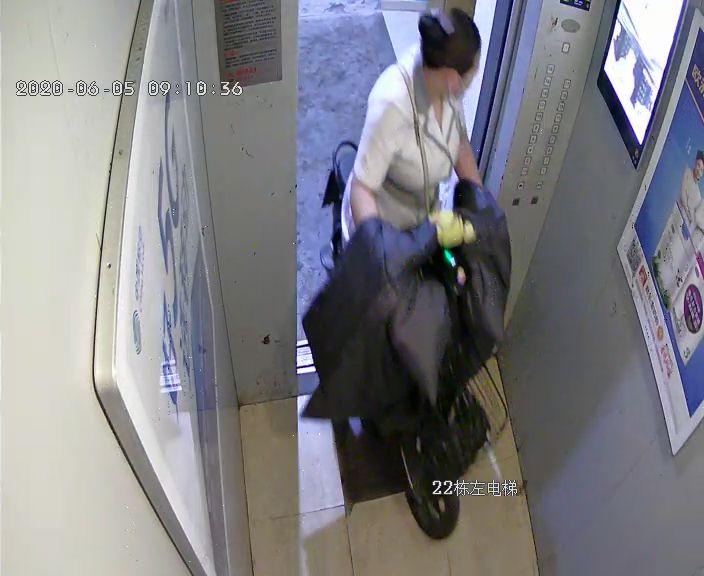Electric-bicycle: (320, 139, 502, 541)
